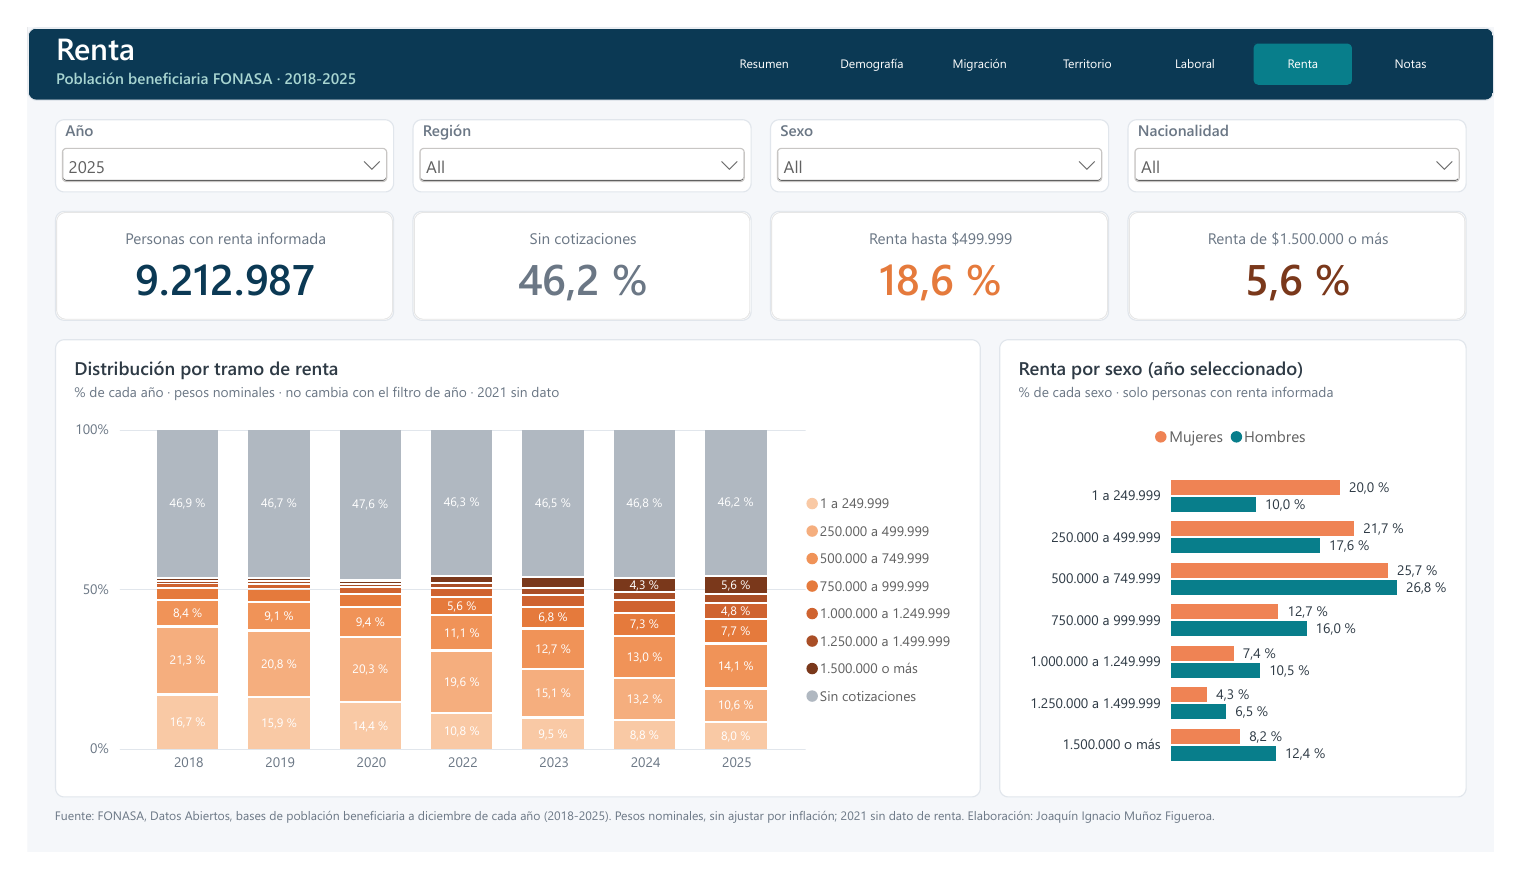

This screenshot's page, from the dashboard's own definition file:
{"tool":"powerbi","page":{"name":"Renta","canvas":[1280,720],"ordinal":5},"visuals":[{"type":"shape","box":[0,0,1280,64],"z":0},{"type":"textbox","title":"Resumen","box":[24.6,0,559.4,64.3],"z":1000},{"type":"pageNavigator","box":[600,14,656,36],"z":2000},{"type":"textbox","title":"Fuente: FONASA, Datos Abiertos, bases de población beneficiaria a diciembre de cada año (2018-2025). Pesos nominales, sin ajustar por inflación; 2021 sin dato de renta. Elaboración: Joaquín Ignacio Mu","box":[24,680,1232,28],"z":3000},{"type":"slicer","fields":{"Values":["Fonasa.anio"]},"box":[24,80,296,64],"z":4000},{"type":"slicer","fields":{"Values":["Fonasa.Región"]},"box":[336,80,296,64],"z":5000},{"type":"slicer","fields":{"Values":["Fonasa.sexo"]},"box":[648,80,296,64],"z":6000},{"type":"slicer","fields":{"Values":["Fonasa.nacionalidad"]},"box":[960,80,296,64],"z":7000},{"type":"cardVisual","fields":{"Data":["Measures Table (DAX).Beneficiarios_Con_Renta_Informada"]},"box":[24,160,296,96],"z":8000},{"type":"cardVisual","fields":{"Data":["Measures Table (DAX).%_Sin_Cotizaciones"]},"box":[336,160,296,96],"z":9000},{"type":"cardVisual","fields":{"Data":["Measures Table (DAX).%_Renta_Hasta_499.999"]},"box":[648,160,296,96],"z":10000},{"type":"cardVisual","fields":{"Data":["Measures Table (DAX).%_Renta_1.500.000_O_Más"]},"box":[960,160,296,96],"z":11000},{"type":"hundredPercentStackedColumnChart","title":"Distribución por tramo de renta","fields":{"Category":["Fonasa.anio"],"Series":["Fonasa.tramo_renta"],"Y":["Measures Table (DAX).%_Del_Año_Renta"]},"box":[24,272,808,400],"z":12000},{"type":"clusteredBarChart","title":"Renta por sexo (año seleccionado)","fields":{"Category":["Fonasa.tramo_renta"],"Y":["Measures Table (DAX).%_Mujeres_Por_Tramo_Renta","Measures Table (DAX).%_Hombres_Por_Tramo_Renta"]},"box":[848,272,408,400],"z":13000}]}

Visuals, with their boxes in screenshot pixels (x1, y1, x2, y2), scaled from the page's 1280x720 canvas onto the 1522x880 screenshot:
shape: 0:0:1521:78
"Resumen" textbox: 29:0:694:79
pageNavigator: 713:17:1493:61
"Fuente: FONASA, Datos Abiertos, bases de población beneficiaria a diciembre de cada año (2018-2025). Pesos nominales, sin ajustar por inflación; 2021 sin dato de renta. Elaboración: Joaquín Ignacio Mu" textbox: 29:831:1493:865
slicer - Fonasa.anio: 29:98:380:176
slicer - Fonasa.Región: 400:98:751:176
slicer - Fonasa.sexo: 771:98:1122:176
slicer - Fonasa.nacionalidad: 1142:98:1493:176
cardVisual - Measures Table (DAX).Beneficiarios_Con_Renta_Informada: 29:196:380:313
cardVisual - Measures Table (DAX).%_Sin_Cotizaciones: 400:196:751:313
cardVisual - Measures Table (DAX).%_Renta_Hasta_499.999: 771:196:1122:313
cardVisual - Measures Table (DAX).%_Renta_1.500.000_O_Más: 1142:196:1493:313
"Distribución por tramo de renta" hundredPercentStackedColumnChart: 29:332:989:821
"Renta por sexo (año seleccionado)" clusteredBarChart: 1008:332:1493:821
